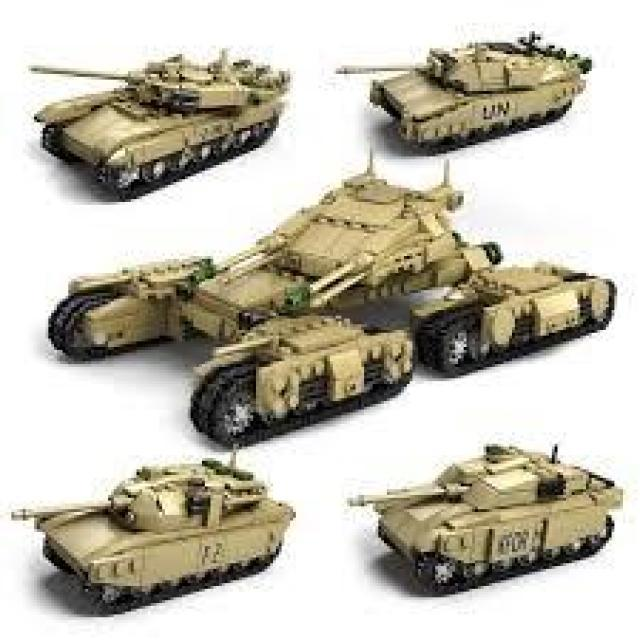ambulance: (12, 168, 574, 446), (2, 444, 318, 620), (336, 441, 578, 629), (43, 17, 304, 191), (327, 32, 572, 176)
